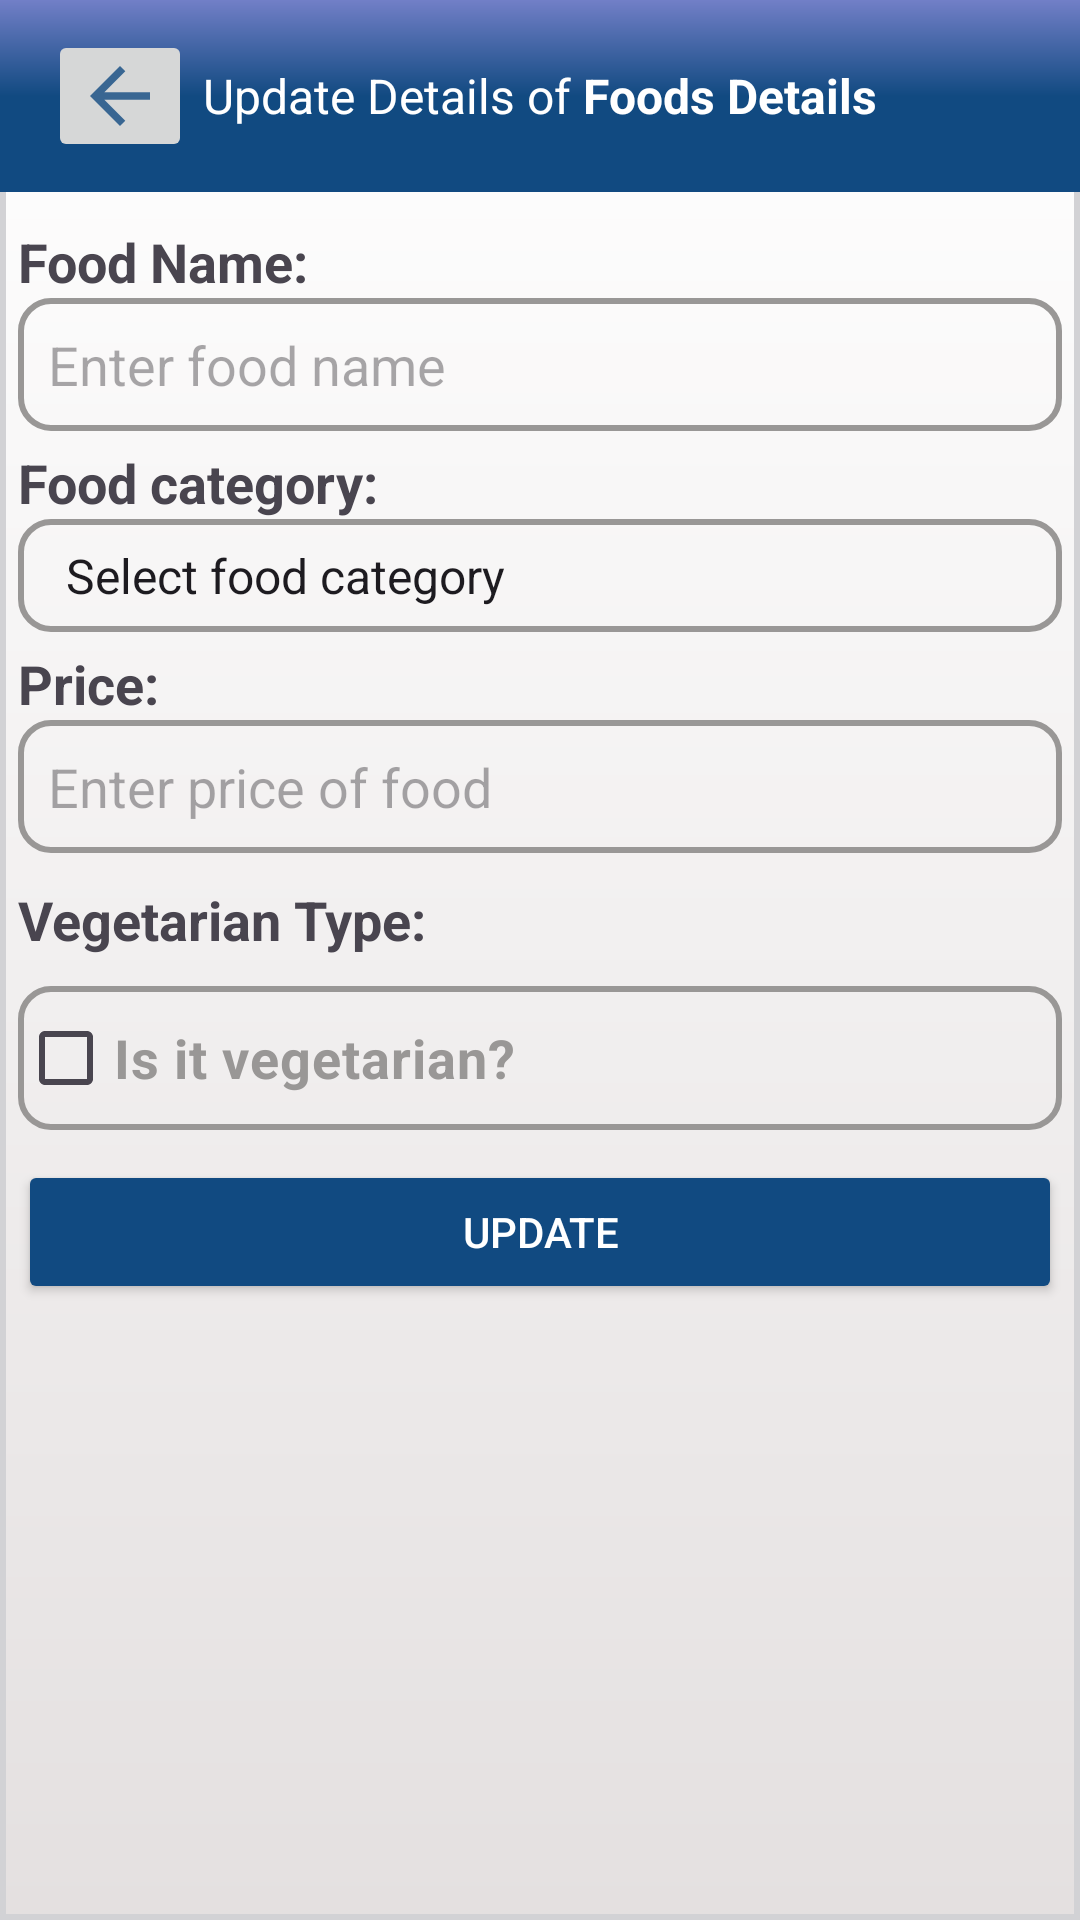

Where to tap for icons on this 1080w x 1920h app screen, as [x,y]:
back arrow: [120,96]
